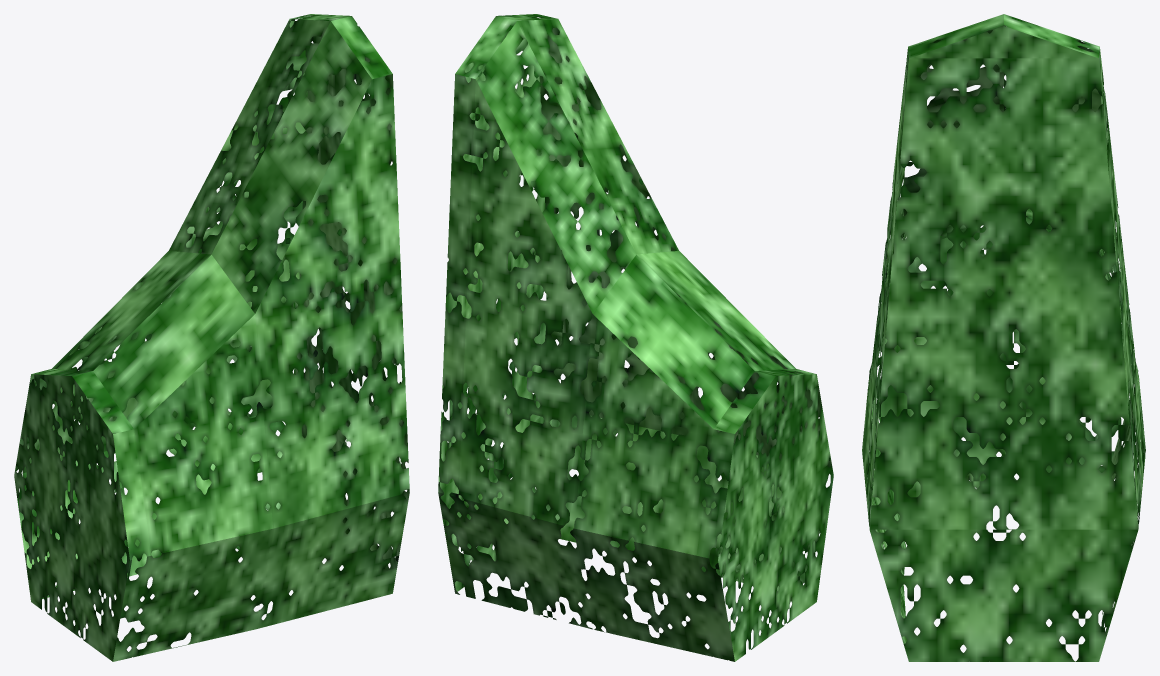
Rendered from bush_connector_ornamental_half_spring.fbx.
3 views of the same model, side by side, from view 1: azimuth 30°, elevation 25°; view 2: azimuth 150°, elevation 25°; view 3: azimuth 270°, elevation 25° (orthographic). The views are drawn at different scales.
Parts seen in each view (by area): view 1: bush_connector_ornamental_half_spring; view 2: bush_connector_ornamental_half_spring; view 3: bush_connector_ornamental_half_spring.
Boxes of the visible parts, x1=… form: bush_connector_ornamental_half_spring: x1=14, y1=14, x2=409, y2=661; bush_connector_ornamental_half_spring: x1=438, y1=14, x2=833, y2=661; bush_connector_ornamental_half_spring: x1=862, y1=14, x2=1145, y2=661.
Size of the model in its own units: 100 by 188 by 75.92.
Materials: 1 (1 with a texture image).
